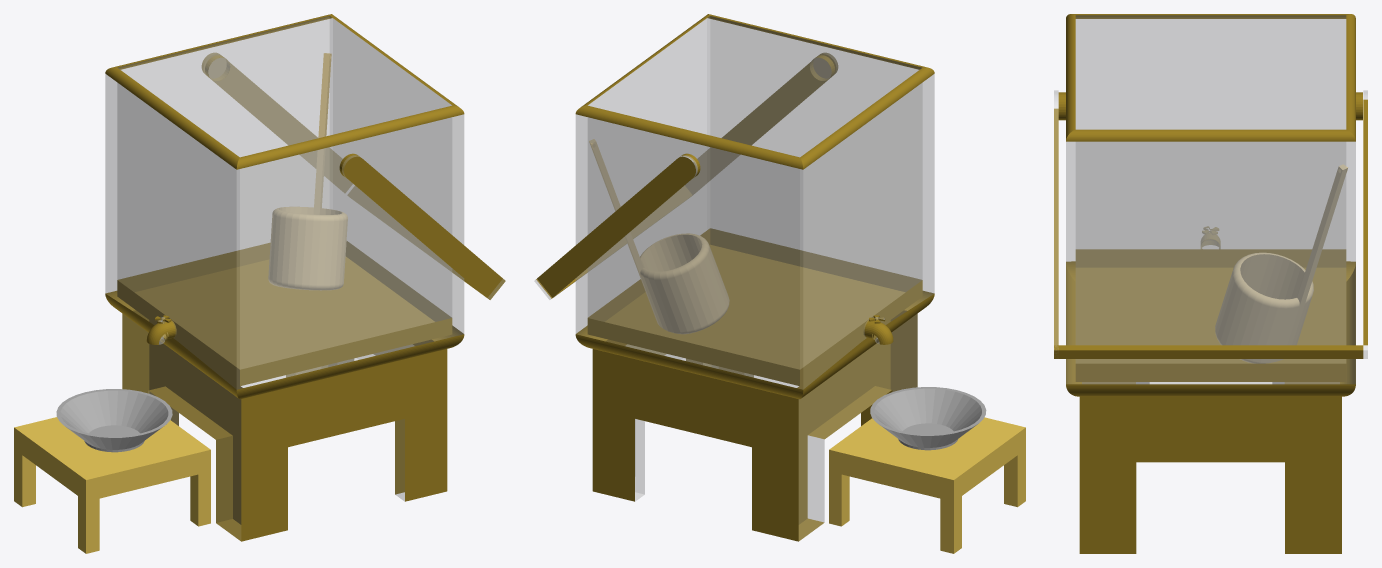
Rendered from Kontainer Cuko.fbx.
The picture shows the model from 3 angles, left to right: view 1: azimuth 30°, elevation 25°; view 2: azimuth 150°, elevation 25°; view 3: azimuth 270°, elevation 25°; orthographic projection. The views are drawn at different scales.
Visible parts, largest first — view 1: Cube, Cube.001, Cylinder; view 2: Cube, Cube.001, Cylinder; view 3: Cube, Cylinder.
Boxes of the visible parts, x1=… form: Cube: x1=105, y1=14, x2=505, y2=541; Cube.001: x1=14, y1=389, x2=210, y2=553; Cylinder: x1=268, y1=53, x2=347, y2=290; Cube: x1=534, y1=14, x2=934, y2=541; Cube.001: x1=829, y1=387, x2=1025, y2=553; Cylinder: x1=589, y1=139, x2=729, y2=334; Cube: x1=1054, y1=14, x2=1367, y2=553; Cylinder: x1=1215, y1=164, x2=1347, y2=363.
Size of the model in its own units: 373 by 358 by 239.
